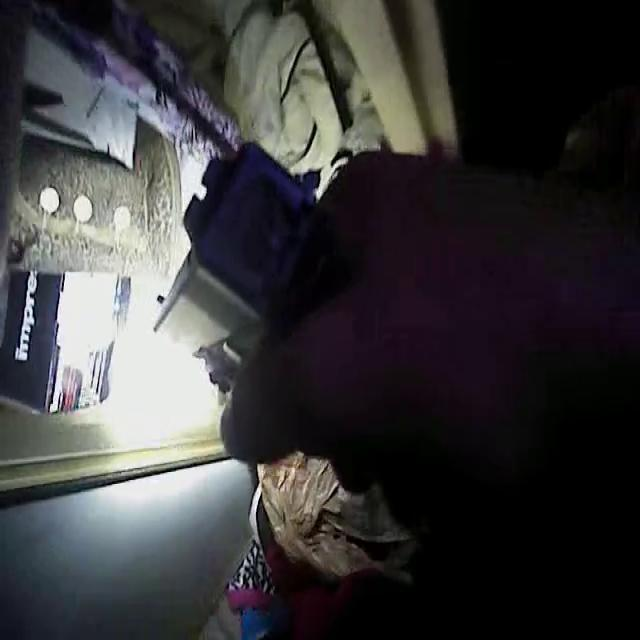gun: (106, 90, 347, 404)
